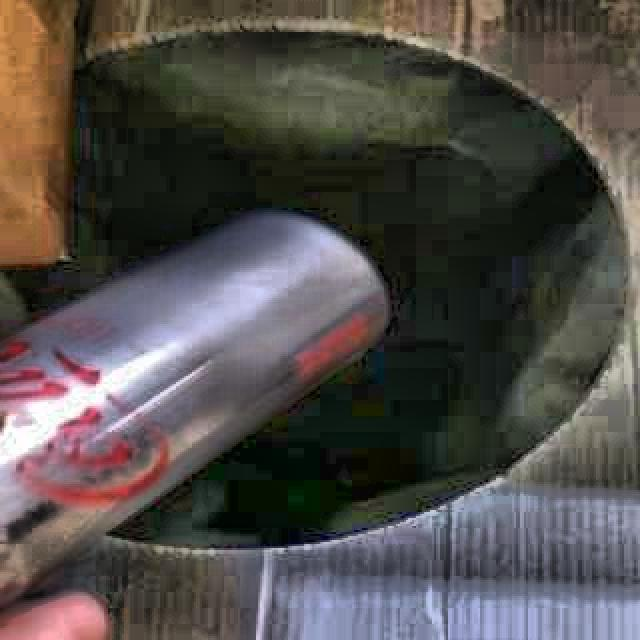metal: (0, 214, 387, 608)
